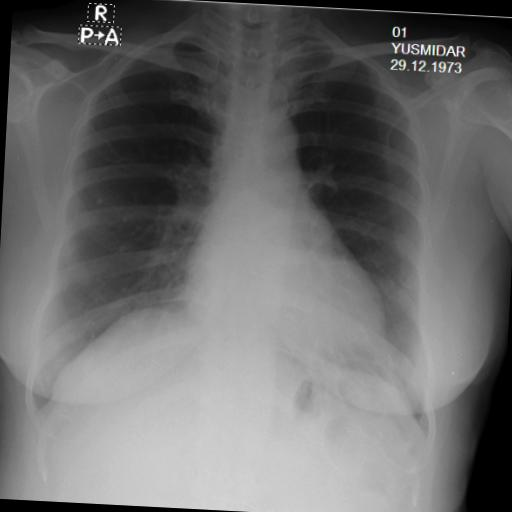kardiomegali: (22, 12, 467, 448)
